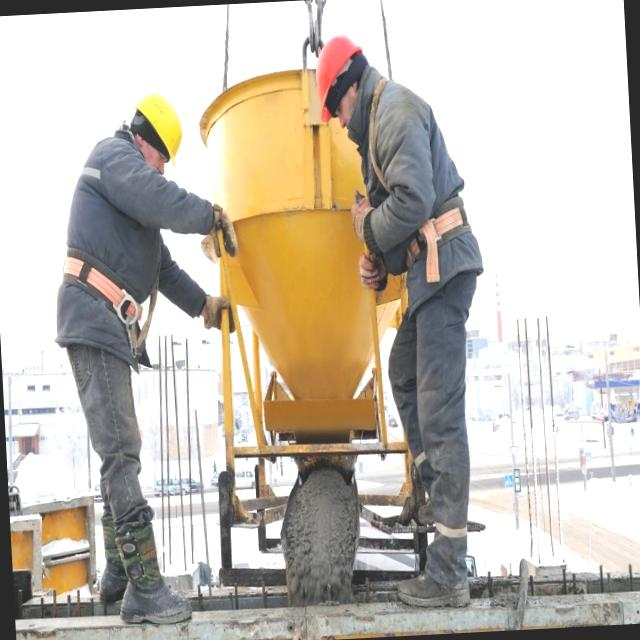helmet: (304, 30, 373, 124), (127, 82, 189, 184)
no-vest: (356, 69, 461, 266), (70, 132, 169, 294)
